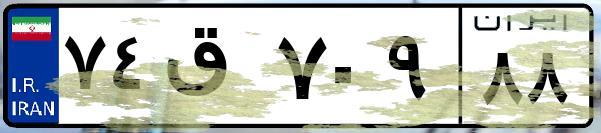0: (330, 28, 385, 110)
4: (110, 28, 158, 98)
7: (270, 28, 330, 110), (57, 26, 110, 100)
8: (475, 38, 525, 113), (525, 38, 570, 115)
9: (385, 28, 445, 110)
ق: (158, 20, 270, 120)
